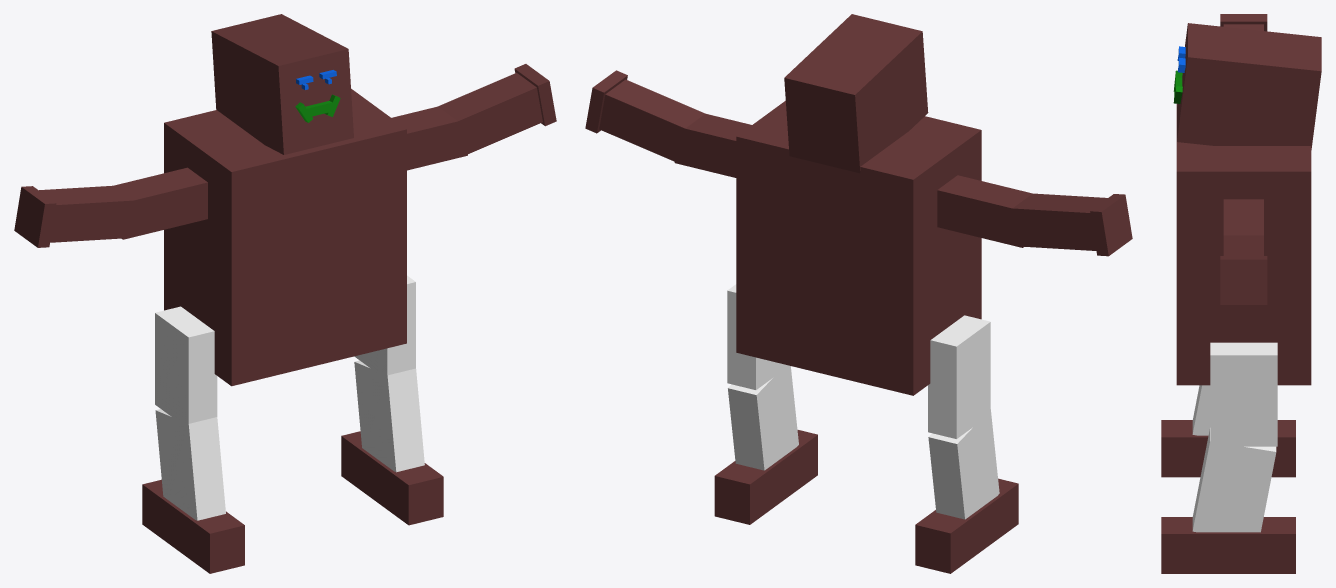
Rendered from Player 2.fbx.
3 views of the same model, side by side, from view 1: azimuth 30°, elevation 25°; view 2: azimuth 150°, elevation 25°; view 3: azimuth 270°, elevation 25° (orthographic).
Parts seen in each view (by area): view 1: BodyMesh, Head, UpperRightLegMesh, LeftKneeMesh, RightKneeMesh, LeftFootMesh, RightFootMesh, RightUpperArmMesh, LeftElbowMesh, RightElbowMesh, LeftUpperArmMesh, RightWristMesh (+2 smaller); view 2: BodyMesh, Head, UpperRightLegMesh, RightKneeMesh, LeftKneeMesh, RightFootMesh, LeftFootMesh, RightUpperArmMesh, LeftElbowMesh, RightElbowMesh, LeftUpperArmMesh, UpperLeftLegMesh (+2 smaller); view 3: BodyMesh, Head, UpperLeftLegMesh, LeftFootMesh, LeftKneeMesh, RightFootMesh, LeftWristMesh, LeftUpperArmMesh, LeftElbowMesh, RightKneeMesh, RightWristMesh.
Boxes of the visible parts, box(x1,y1,x2,y2) form: BodyMesh: box(164, 88, 406, 386); Head: box(211, 14, 353, 154); UpperRightLegMesh: box(155, 306, 217, 428); LeftKneeMesh: box(354, 360, 424, 472); RightKneeMesh: box(155, 409, 225, 520); LeftFootMesh: box(341, 431, 443, 525); RightFootMesh: box(142, 479, 244, 573); RightUpperArmMesh: box(113, 167, 207, 239); LeftElbowMesh: box(438, 72, 542, 153); RightElbowMesh: box(39, 185, 132, 242); LeftUpperArmMesh: box(392, 106, 467, 170); RightWristMesh: box(14, 186, 56, 247); BodyMesh: box(736, 101, 981, 395); Head: box(784, 14, 928, 173); UpperRightLegMesh: box(928, 315, 990, 438); RightKneeMesh: box(928, 409, 999, 519); LeftKneeMesh: box(727, 366, 798, 470); RightFootMesh: box(915, 478, 1018, 573); LeftFootMesh: box(714, 430, 817, 524); RightUpperArmMesh: box(937, 175, 1032, 247); LeftElbowMesh: box(599, 79, 705, 161); RightElbowMesh: box(1012, 193, 1107, 250); LeftUpperArmMesh: box(674, 113, 751, 177); UpperLeftLegMesh: box(727, 284, 789, 389); BodyMesh: box(1176, 103, 1311, 385); Head: box(1177, 23, 1321, 149); UpperLeftLegMesh: box(1210, 342, 1277, 446); LeftFootMesh: box(1161, 517, 1295, 573); LeftKneeMesh: box(1192, 428, 1276, 532); RightFootMesh: box(1161, 420, 1295, 477); LeftWristMesh: box(1220, 256, 1267, 304); LeftUpperArmMesh: box(1223, 199, 1263, 235); LeftElbowMesh: box(1223, 235, 1263, 255); RightKneeMesh: box(1192, 385, 1210, 435); RightWristMesh: box(1220, 14, 1267, 31).
Size of the model in its own units: 444 by 391 by 119.
